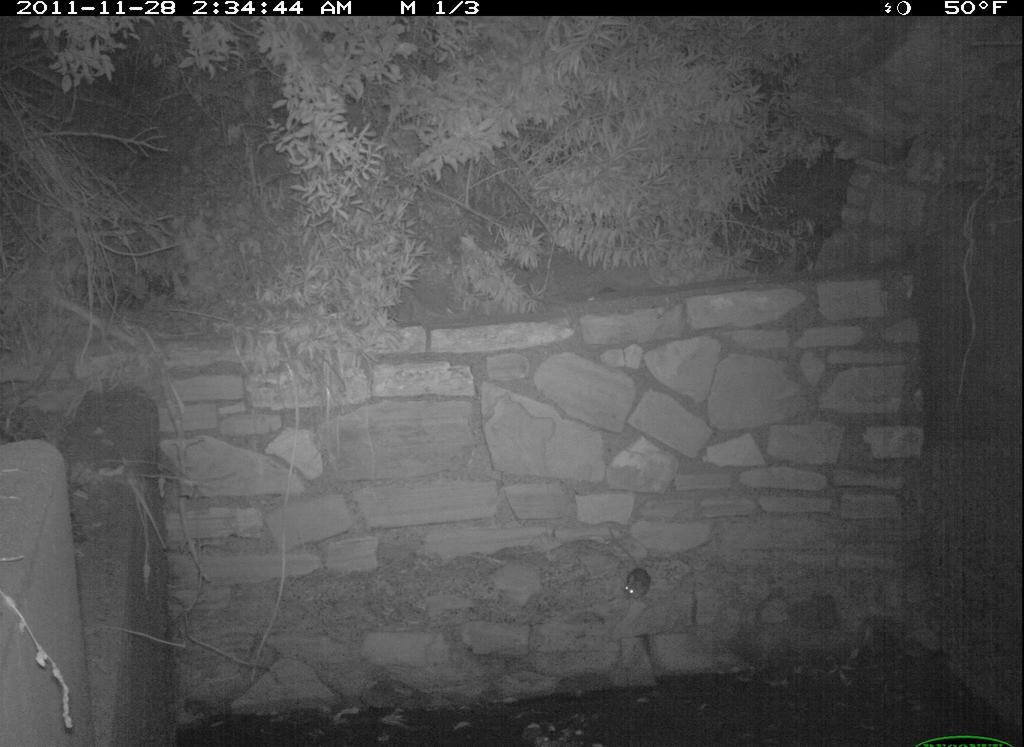rodent: (612, 557, 667, 603)
